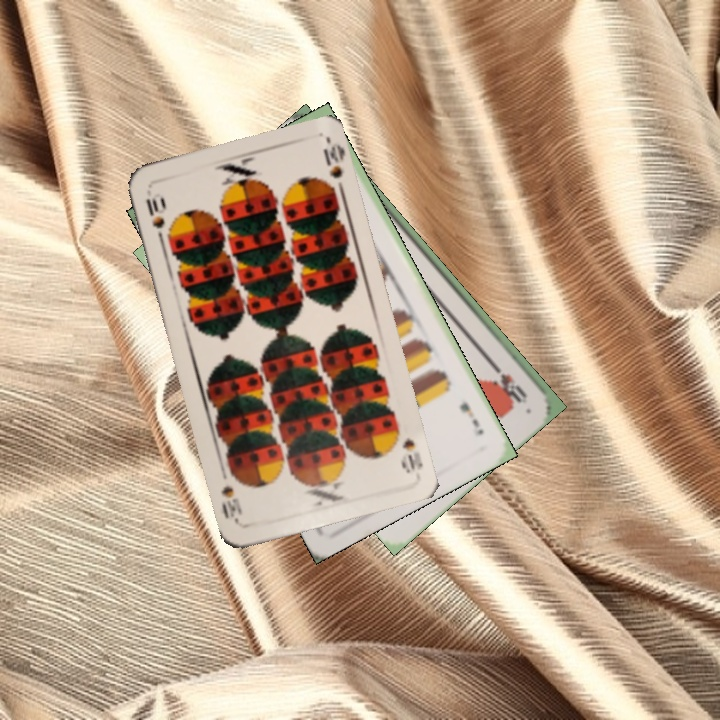E7: (455, 398, 487, 439)
HO: (487, 358, 530, 404)
S10: (392, 420, 426, 476), (142, 189, 167, 245)
